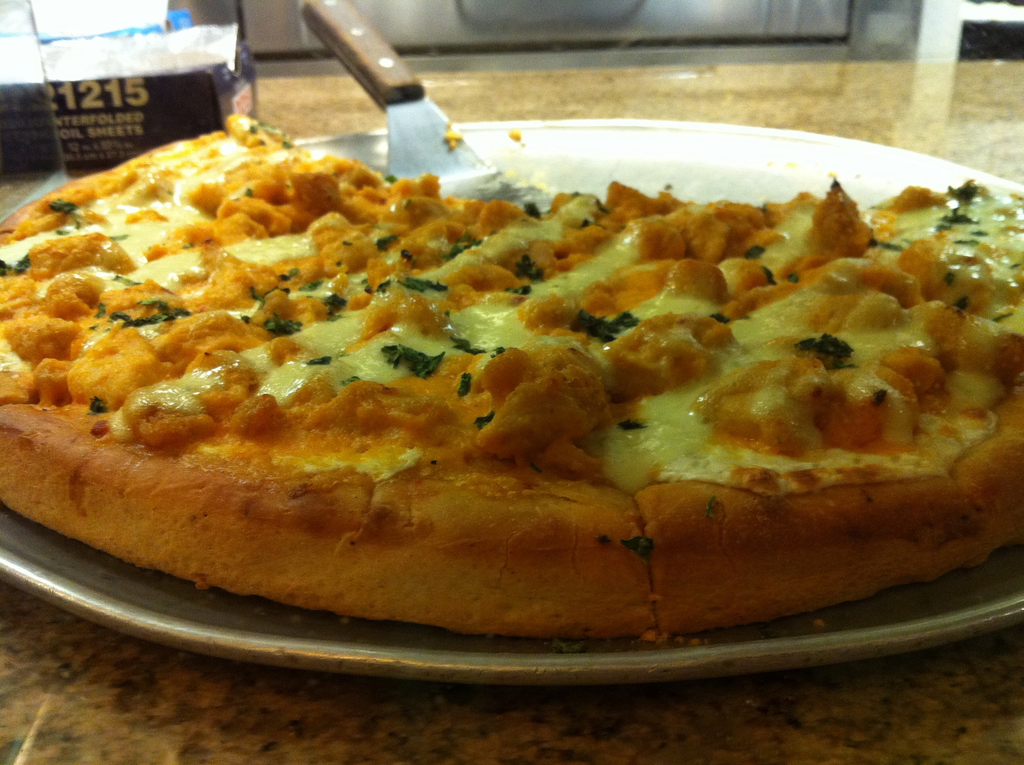Pizza: (0, 118, 1023, 660)
